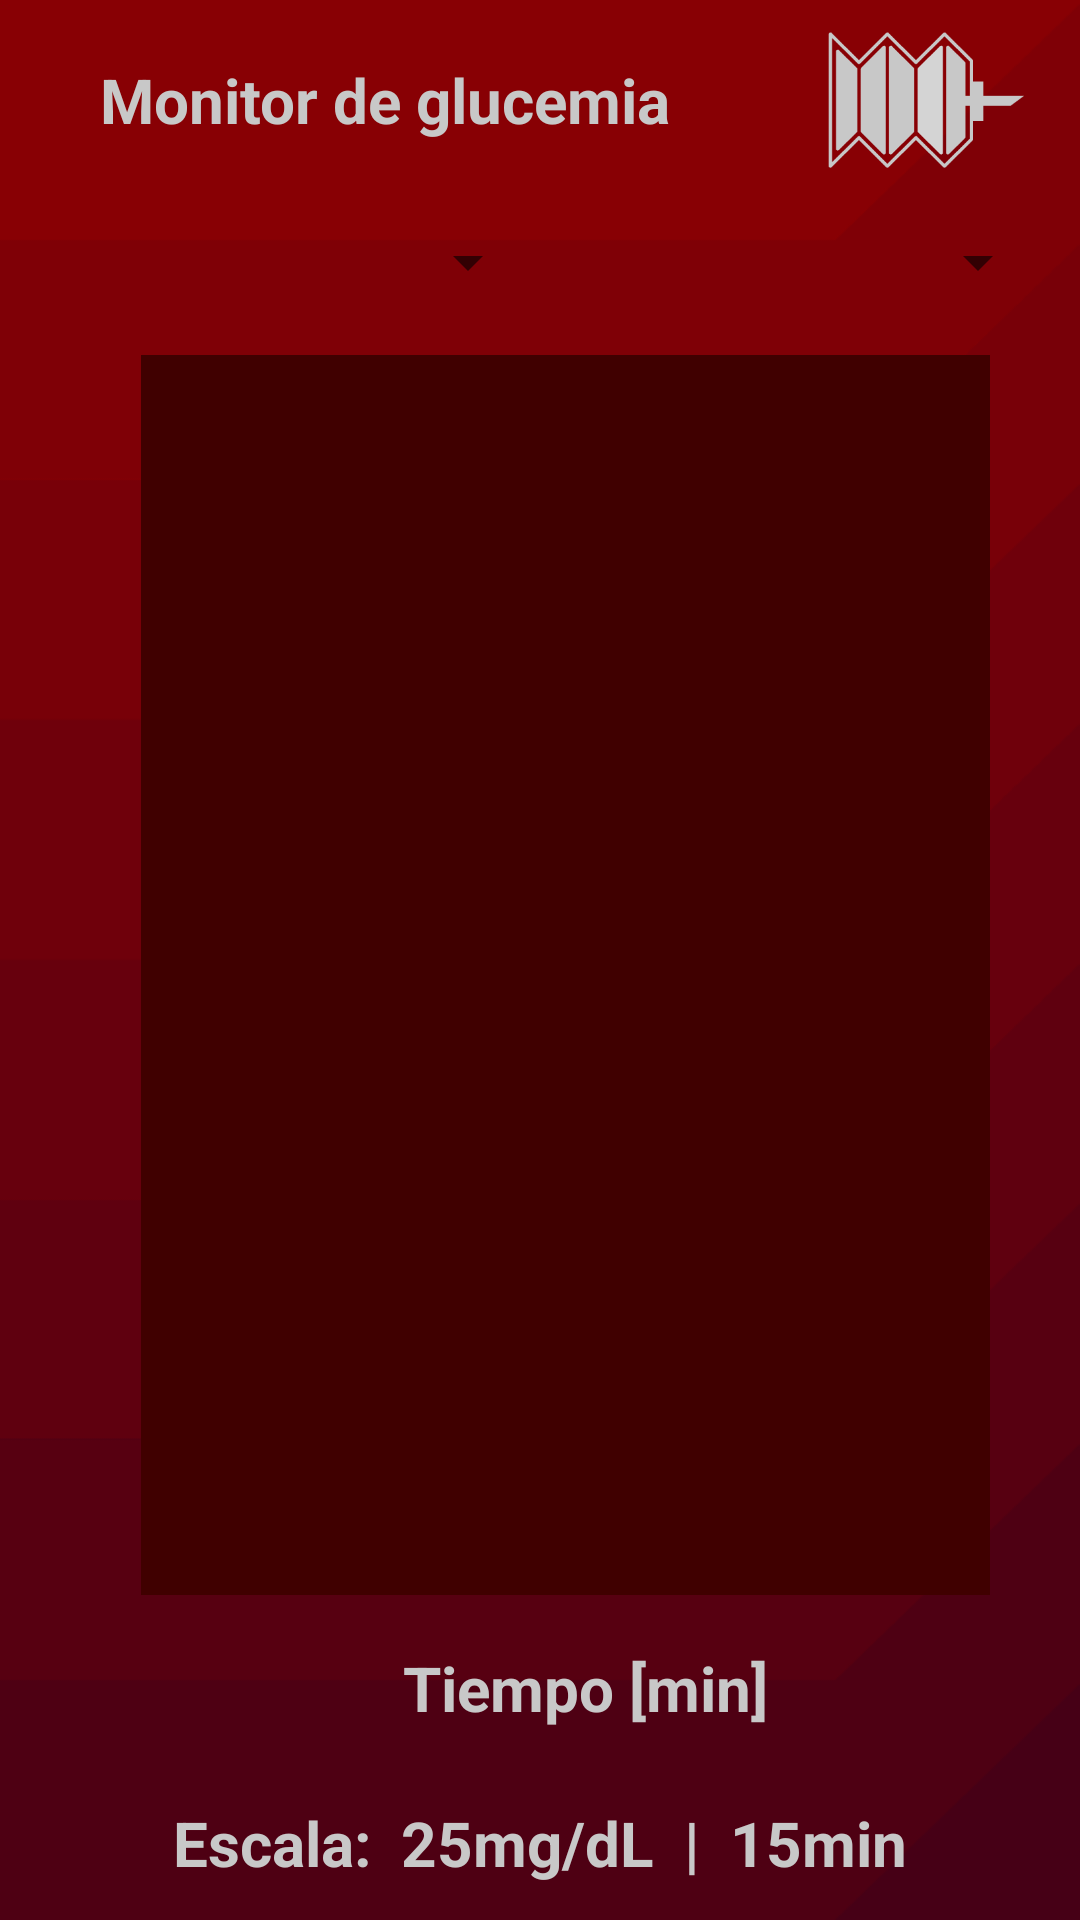

Where icons sit on this 1080px x 1920px app screen, as (x1, y1, x2, y2):
jeringa: (828, 32, 1024, 168)
